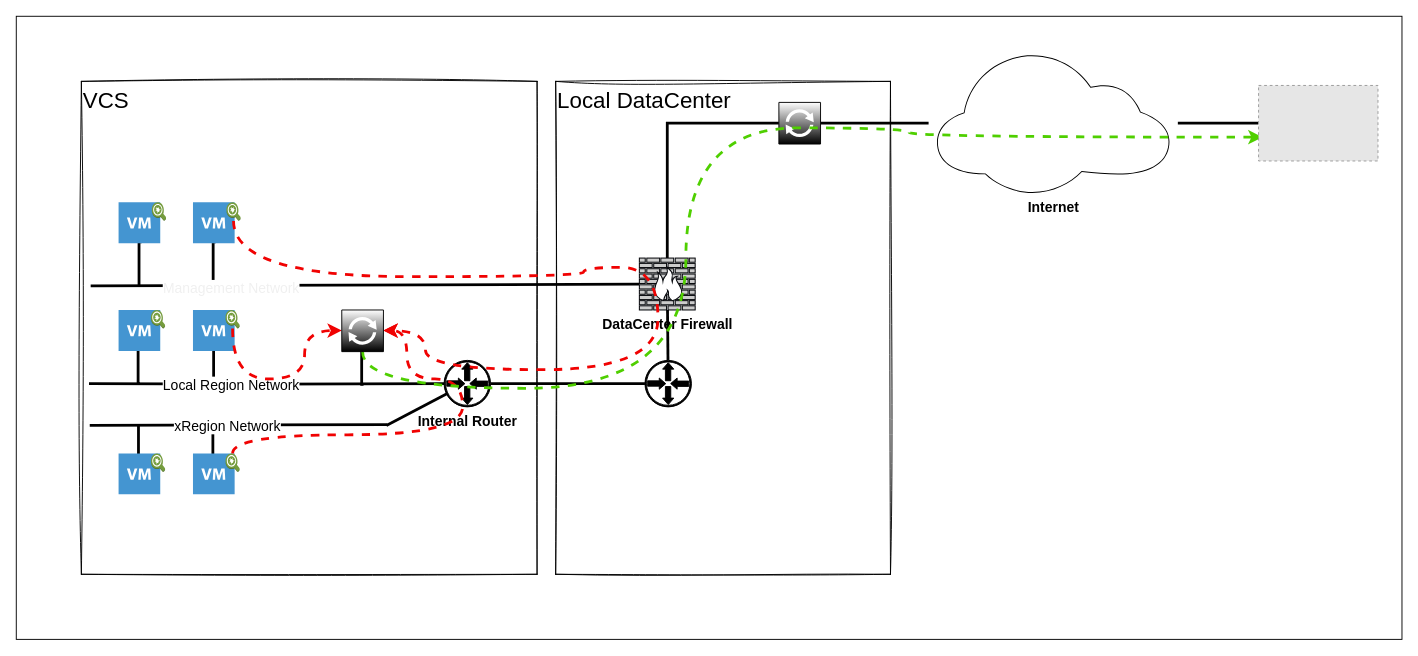
The diagram is 1418 pixels wide and 656 high, and some of its shapes have lost their labels. Grey dashed boxes stand in for pictures. The shapes that lost their labels are listed below. From the top down, each one's centre as x and y in pixels, then its label:
At [799,122]: "Datacenter Proxy".
At [362,330]: "VCS Proxy".
At [667,383]: "DataCenter Router".
